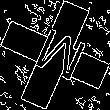M_SW: (24, 23, 86, 87)
